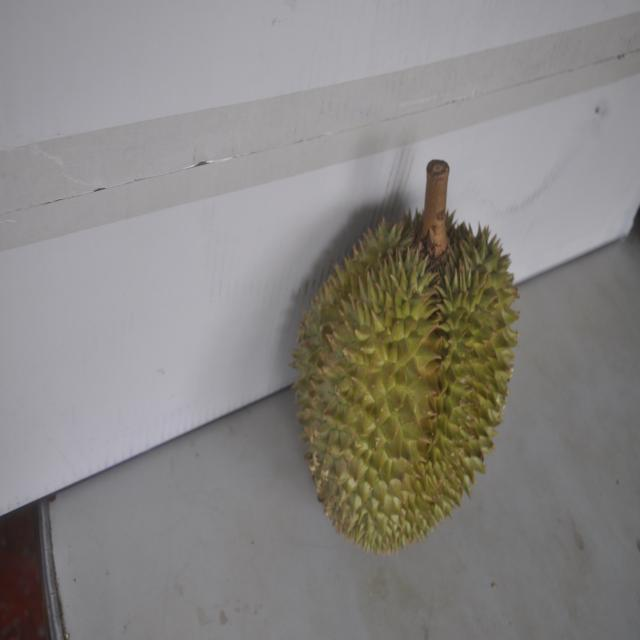mature: (296, 163, 522, 552)
